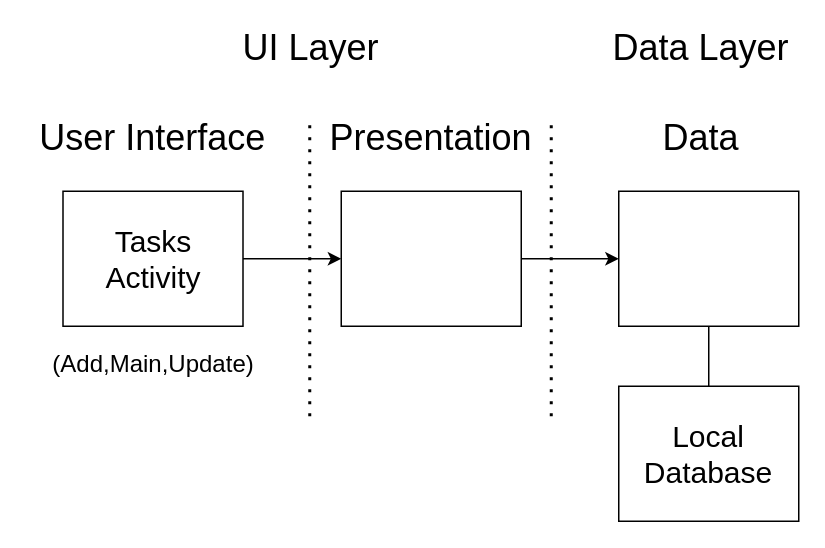
The diagram is 825 pixels wide and 548 high, and some of its shapes have lost their labels. Here are the shapes that lost their labels. From the top down, the centre of each, then its label:
At point 430,258: "Task Adapter".
At point 708,258: "Tasks Database Helper".
